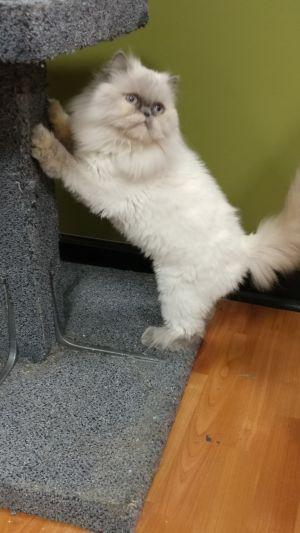persian: (76, 45, 192, 165)
